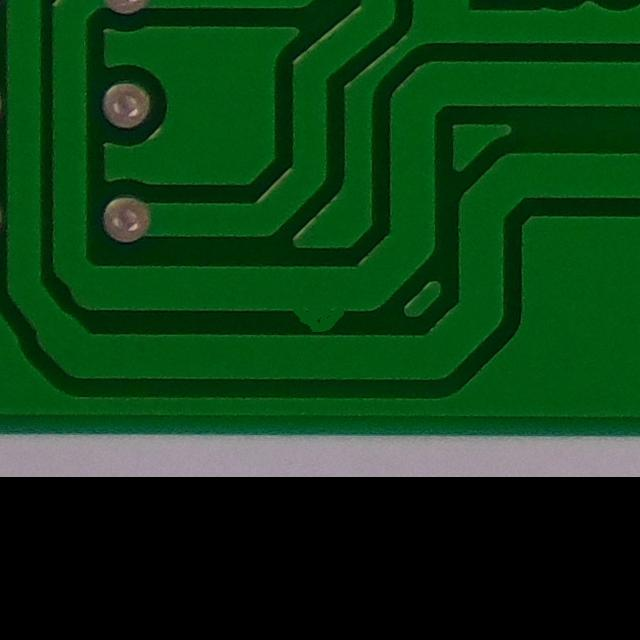spur: (283, 290, 357, 350)
